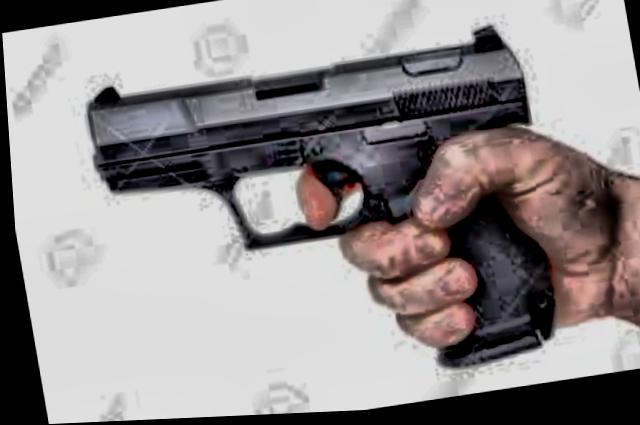pistol: (70, 25, 570, 417)
